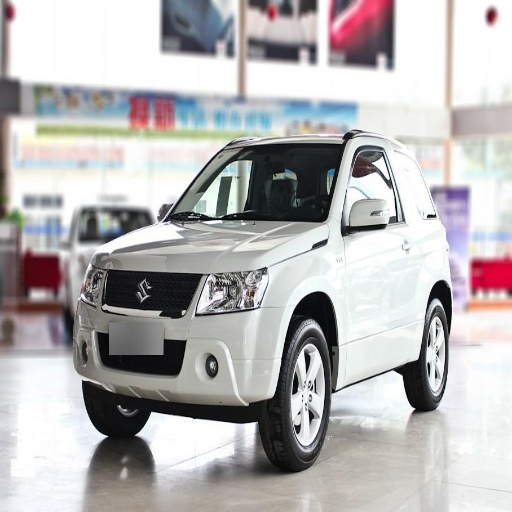back_glass: (134, 1, 207, 36)
front_bumper: (75, 268, 292, 405)
front_glass: (165, 146, 344, 221)
front_left_door: (343, 139, 411, 383)
